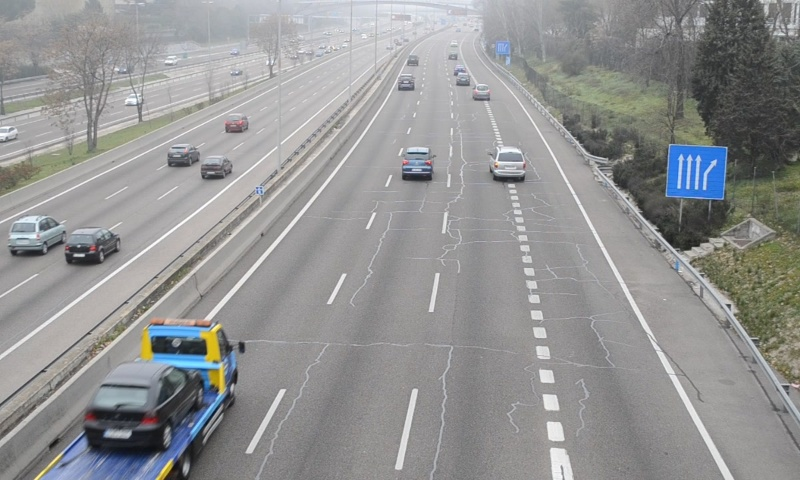car: (491, 146, 526, 180), (401, 148, 433, 178), (396, 73, 415, 92), (472, 83, 490, 101)
small-truck: (32, 316, 238, 480)
